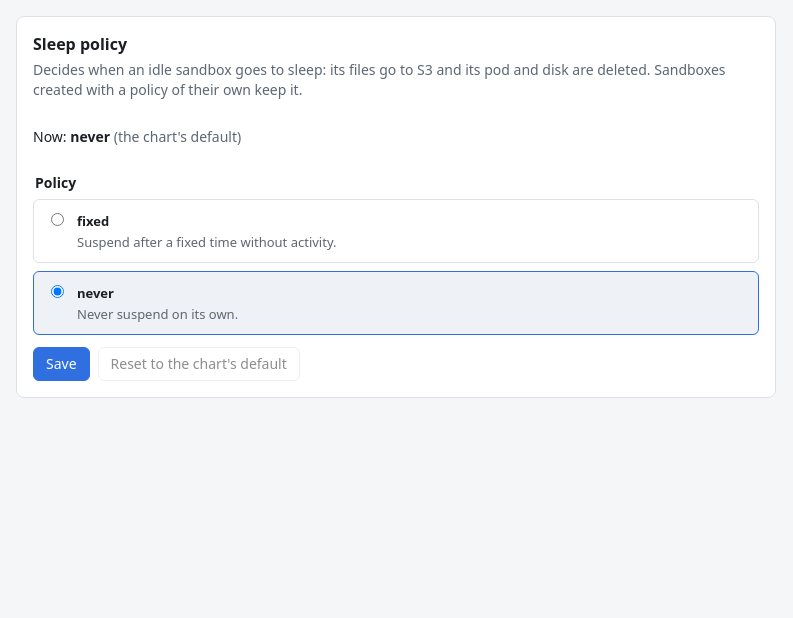
Test: Settings › saves the chosen policy with the parameters filled in
Check: the text "(the chart's default)" is shown, box x1=114 y1=127 x2=241 y2=146
Check: the button "Reset to the chart's default" is disabled, box x1=98 y1=347 x2=300 y2=381
Click the radio button labelled "fixed Suspend after a fixed time without activity.": coordinates (58, 220) x1=51 y1=213 x2=64 y2=226
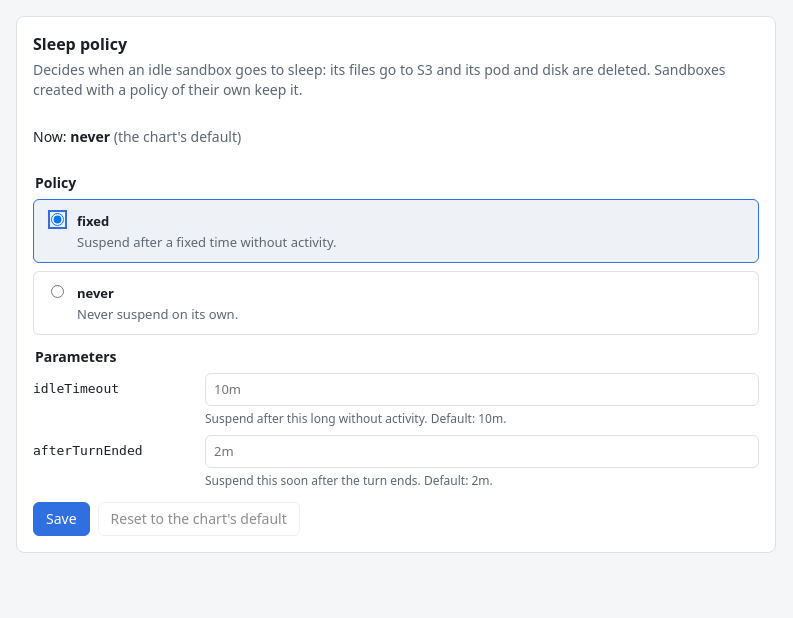
In the field labelled "idleTimeout": coordinates (482, 389) x1=205 y1=373 x2=759 y2=406, type "30s"
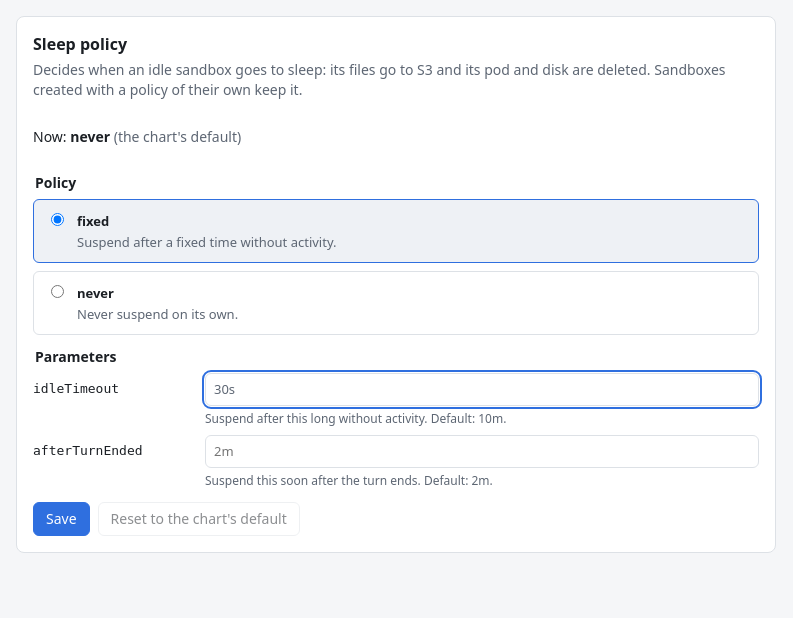
Click the button "Save": coordinates (61, 519) x1=33 y1=502 x2=90 y2=536
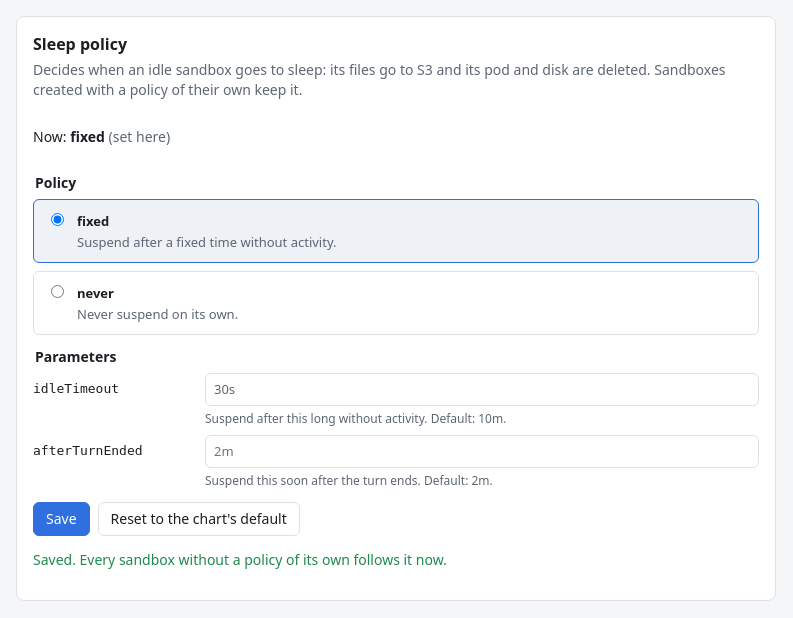
Check: the text "Saved. Every sandbox without a policy of its own follows it now." is shown, box x1=33 y1=550 x2=447 y2=569
Check: the text "(set here)" is shown, box x1=108 y1=127 x2=170 y2=146
Click the button "Reset to the chart's default": coordinates (199, 519) x1=98 y1=502 x2=300 y2=536
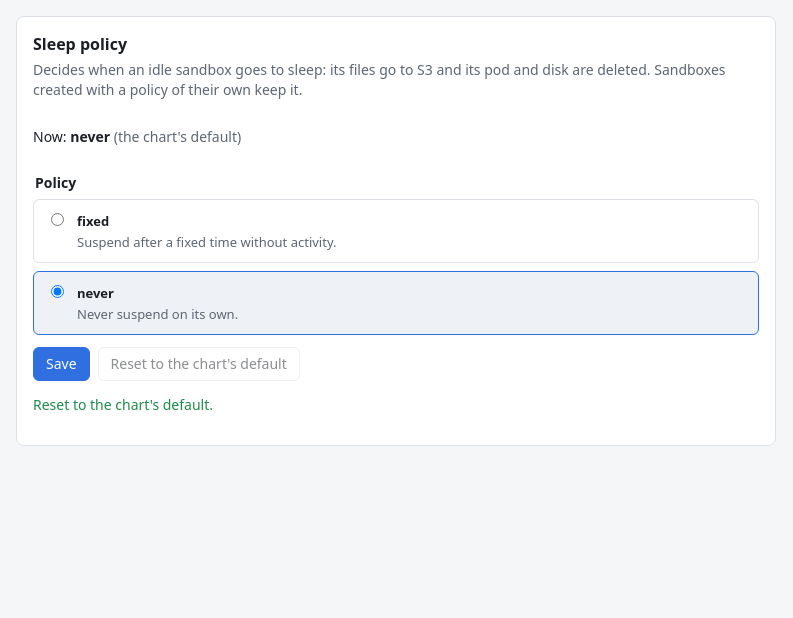
Check: the text "Reset to the chart's default." is shown, box x1=33 y1=395 x2=213 y2=414
Check: the radio button labelled "never Never suspend on its own." is checked, box x1=51 y1=285 x2=64 y2=298
